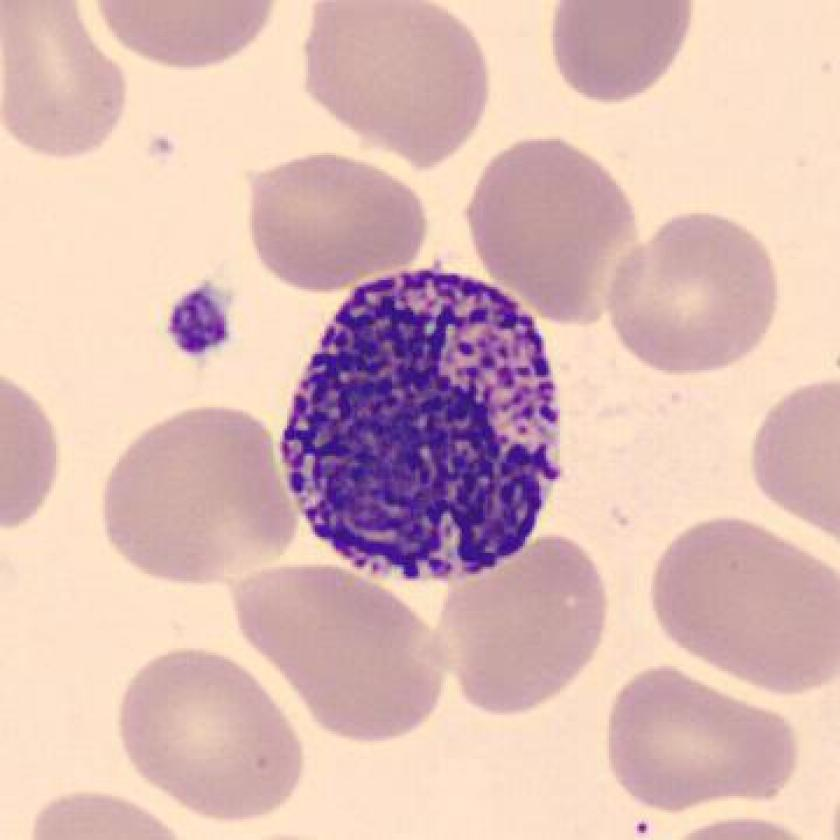basophil: (279, 265, 573, 586)
